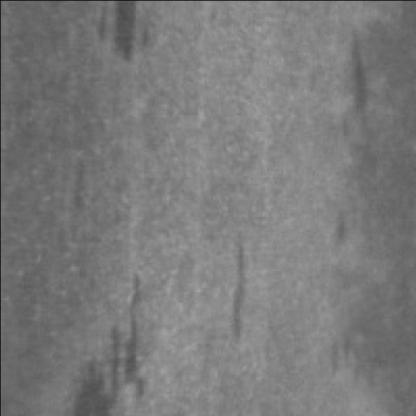inclusion: (104, 266, 156, 416), (337, 17, 383, 177), (216, 226, 270, 354), (95, 2, 144, 73)
